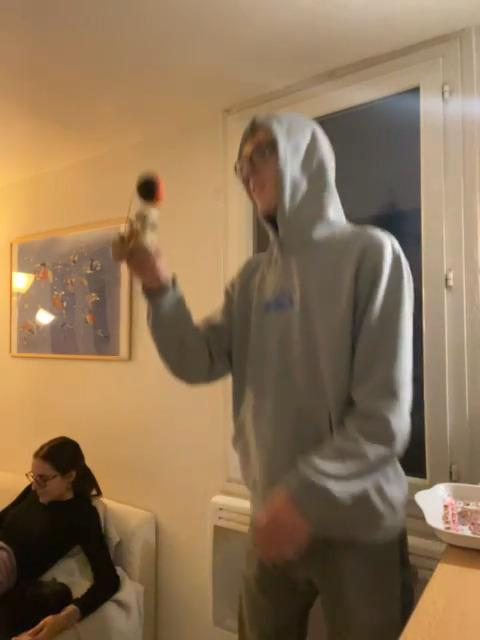kendama_ball: (136, 170, 164, 205)
